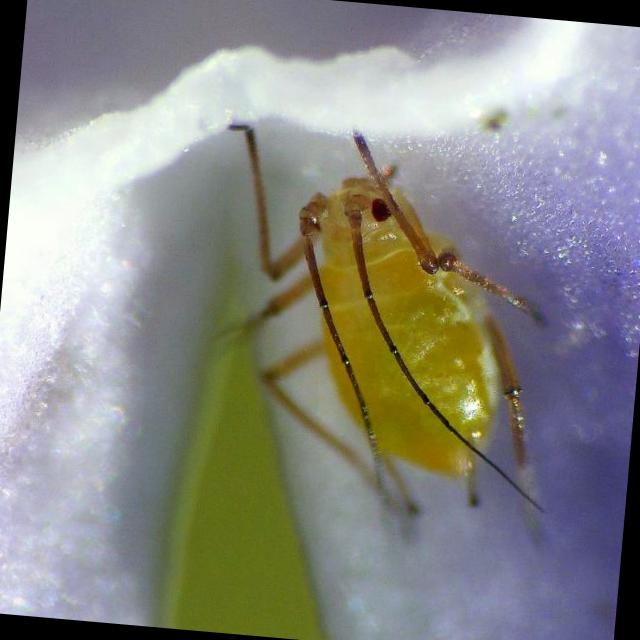aphid: (209, 101, 575, 538)
